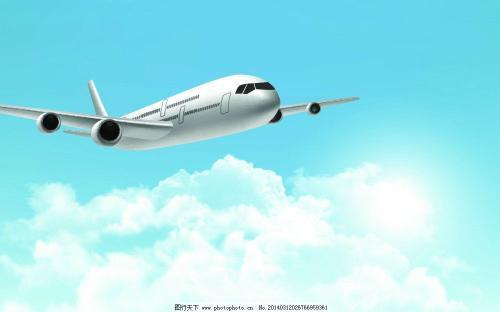airplane: (2, 74, 366, 147)
